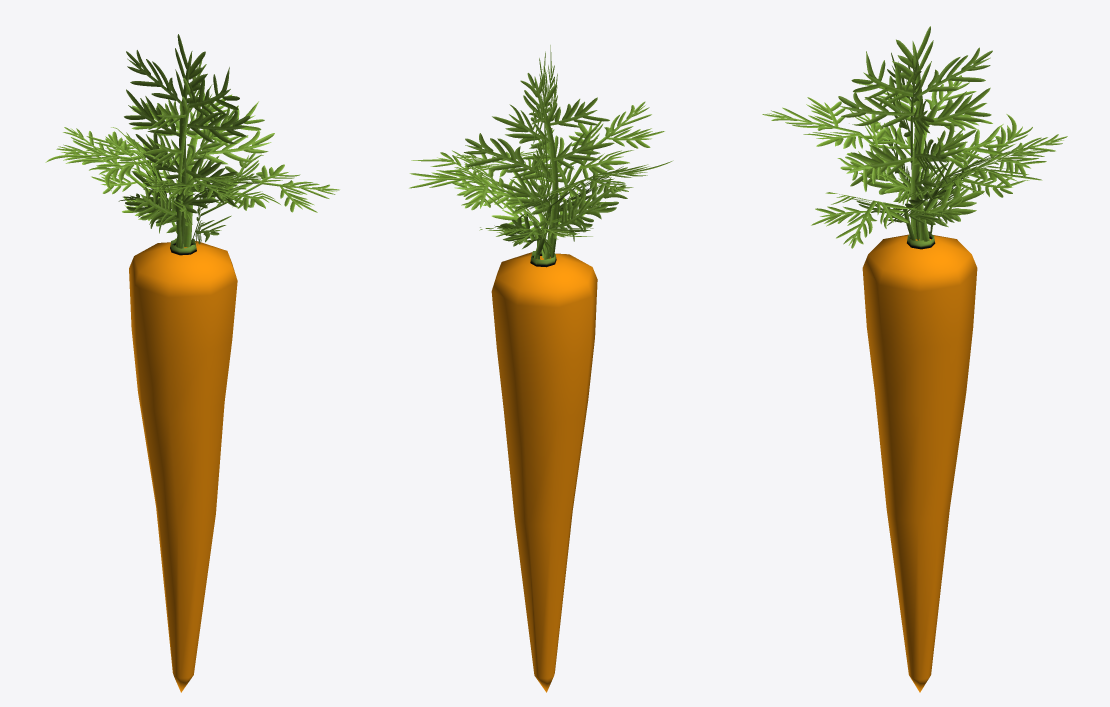
Rendered from CarrotSubstanceExport.fbx.
The picture shows the model from 3 angles, left to right: view 1: azimuth 30°, elevation 25°; view 2: azimuth 150°, elevation 25°; view 3: azimuth 270°, elevation 25°; orthographic projection. The views are drawn at different scales.
Visible parts, largest first — view 1: polySurface15; view 2: polySurface15; view 3: polySurface15.
Part boxes in pixels (x1,y1,x2,y2): polySurface15: (45,34,339,692); polySurface15: (409,45,673,692); polySurface15: (762,26,1067,692).
Size of the model in its own units: 0.1916 by 0.416 by 0.2002.
Materials: 1 (1 with a texture image).
